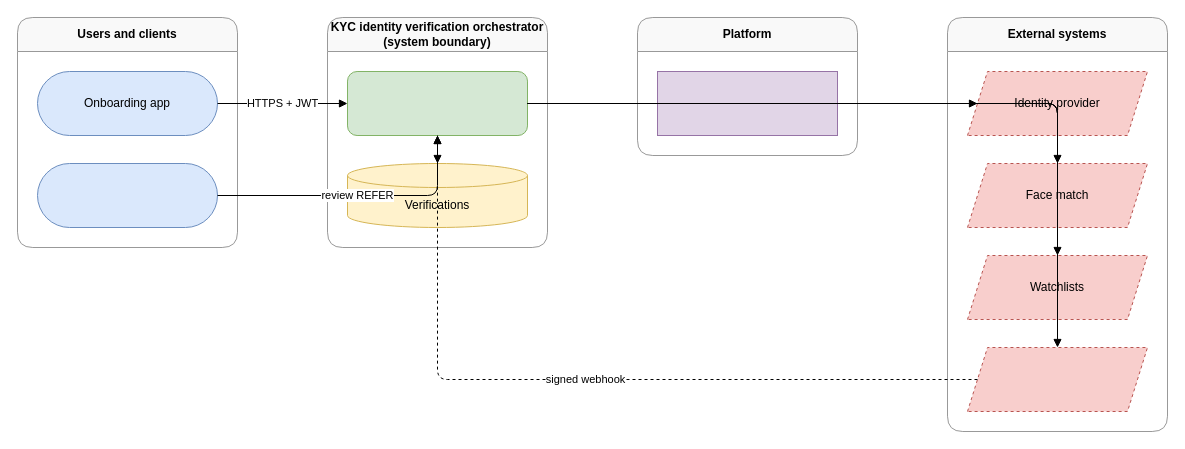
The diagram is 1185 pixels wide and 449 high, and some of its shapes have lost their labels. Each missing label, with the centre of its shape:
"Address verification" goes at (x=1057, y=379).
"Compliance" goes at (x=127, y=195).
"Keycloak" goes at (x=747, y=103).
"KYC orchestrator API" goes at (x=437, y=103).
